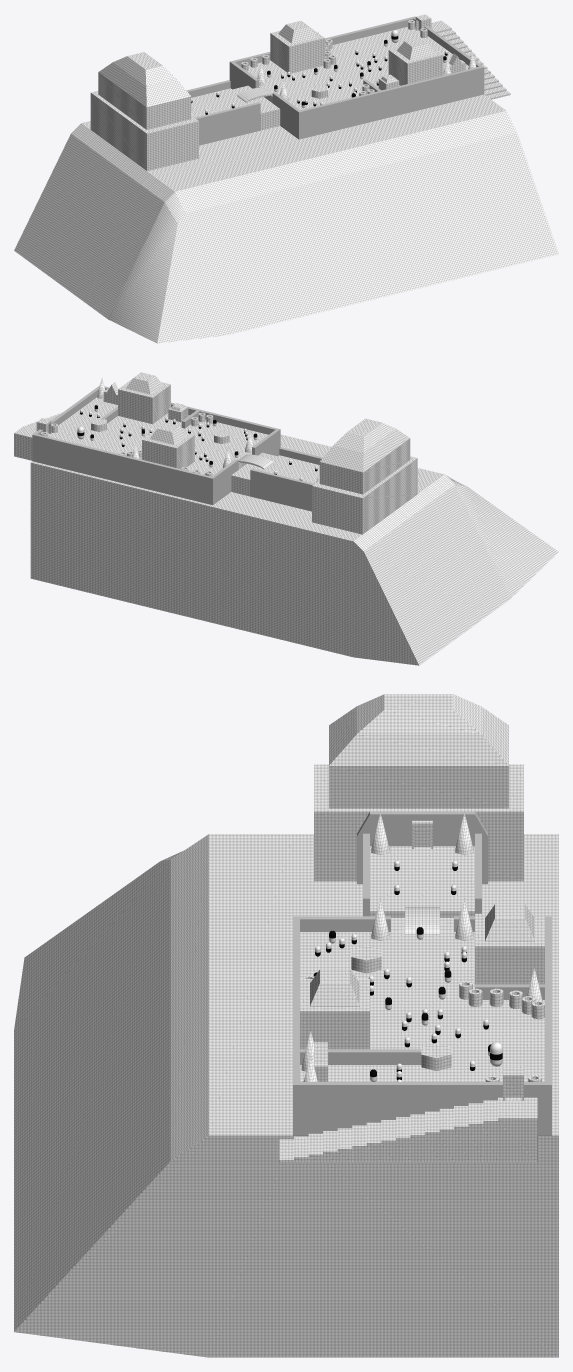
The model's file is WhiteBlock.fbx.
3 renders of one model, top to bottom at view 1: azimuth 30°, elevation 25°; view 2: azimuth 150°, elevation 25°; view 3: azimuth 270°, elevation 25°, orthographic. The views are drawn at different scales.
Parts seen in each view (by area): view 1: Cube__49_, Cube__9_, Cube__40_, Cube__21_, Cube__7_, Cube__26_, Cube__39_, Stairs, Cube__22_, Cube__12_, Cube__13_, Cube__25_ (+2 smaller); view 2: Cube__49_, Cube__9_, Cube__20_, Cube__40_, Cube__8_, Cube__38_, Cube__25_, Cube__21_, Stairs, Cube__22_, Cube__13_, Cube__12_ (+3 smaller); view 3: Cube__49_, Cube__9_, Stairs, Cube__40_, Cube__6_, Cube__26_, Cube__38_, Cube__25_, Cube__39_, Cube__20_, Cube__5_, Cube__4_ (+19 smaller).
Part boxes in pixels (x1,y1,x2,y2): Cube__49_: [14, 94, 558, 343]; Cube__9_: [90, 52, 198, 170]; Cube__40_: [340, 16, 484, 112]; Cube__21_: [297, 84, 409, 139]; Cube__7_: [195, 102, 260, 145]; Cube__26_: [279, 23, 324, 73]; Cube__39_: [398, 40, 443, 85]; Stairs: [431, 20, 510, 99]; Cube__22_: [232, 85, 280, 130]; Cube__12_: [272, 92, 299, 137]; Cube__13_: [231, 62, 258, 89]; Cube__25_: [270, 20, 314, 66]; Cube__49_: [30, 434, 558, 665]; Cube__9_: [312, 418, 417, 534]; Cube__20_: [105, 451, 214, 505]; Cube__40_: [32, 385, 172, 478]; Cube__8_: [250, 468, 314, 511]; Cube__38_: [118, 375, 161, 424]; Cube__25_: [142, 425, 185, 468]; Cube__21_: [171, 403, 280, 455]; Stairs: [14, 412, 62, 460]; Cube__22_: [231, 452, 277, 496]; Cube__13_: [212, 459, 238, 503]; Cube__12_: [252, 430, 278, 456]; Cube__49_: [14, 834, 558, 1357]; Cube__9_: [314, 694, 523, 881]; Stairs: [279, 1097, 537, 1162]; Cube__40_: [293, 1017, 551, 1135]; Cube__6_: [357, 811, 487, 884]; Cube__26_: [475, 904, 509, 984]; Cube__38_: [335, 969, 369, 1049]; Cube__25_: [510, 904, 544, 984]; Cube__39_: [300, 969, 334, 1049]; Cube__20_: [475, 916, 551, 1016]; Cube__5_: [370, 878, 404, 917]; Cube__4_: [440, 878, 474, 917].
Bounding box in the file's own units: 25950 × 11904 × 15572.
